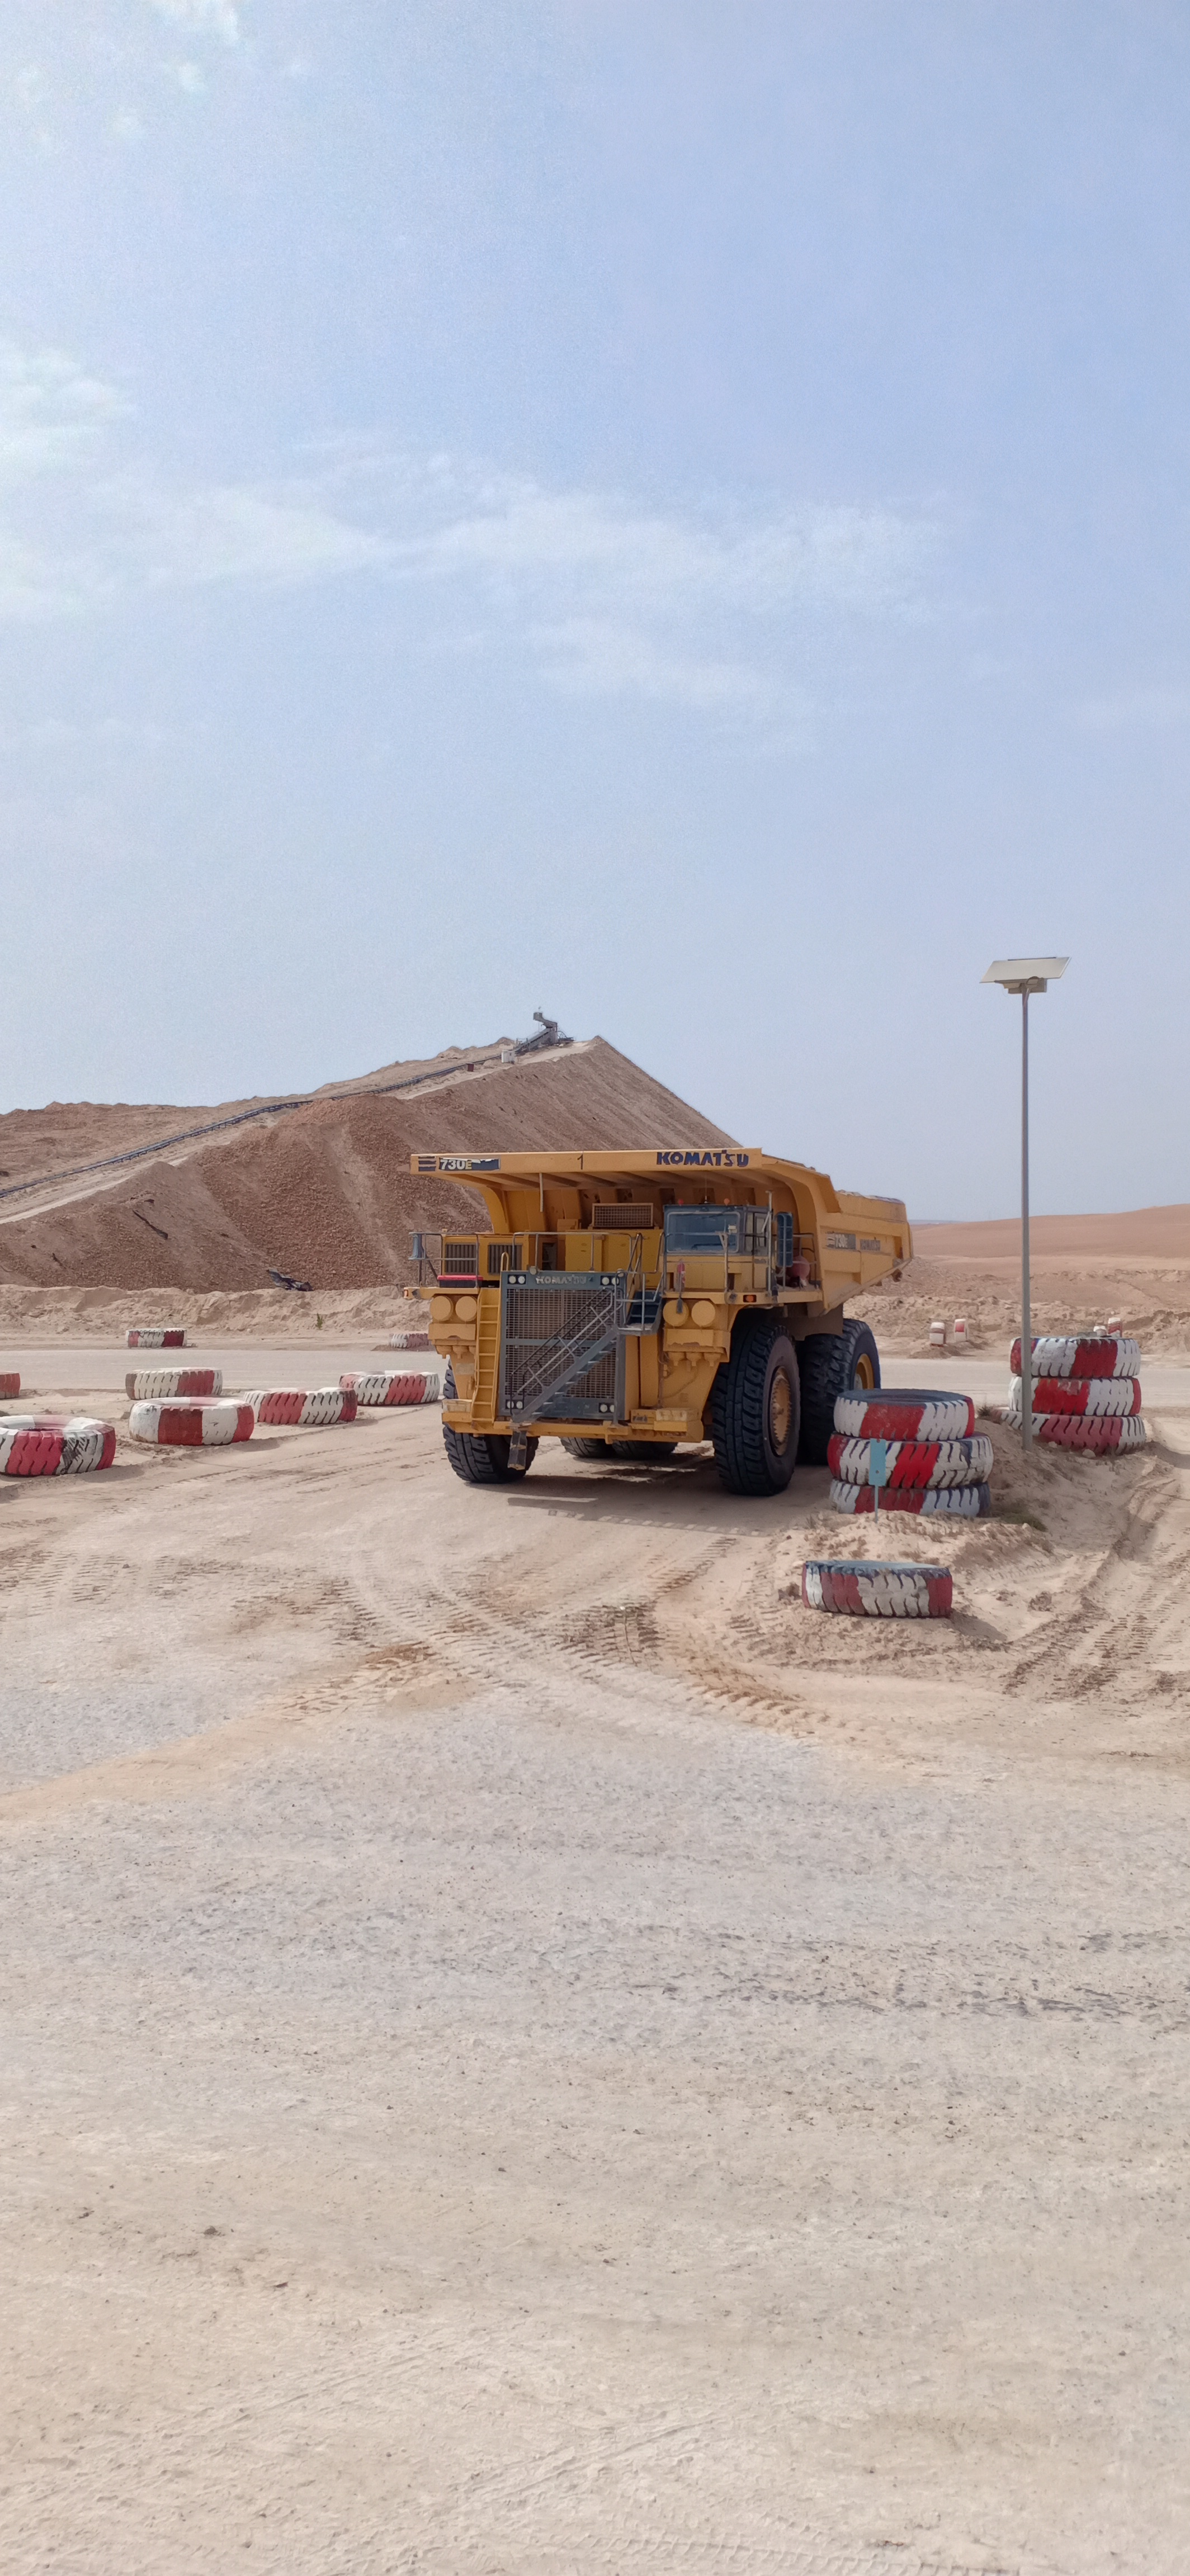camion: (386, 1114, 948, 1529)
